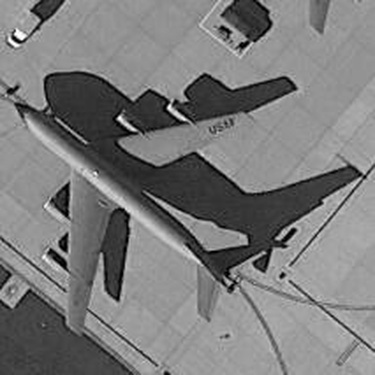airplane: (12, 80, 299, 337)
